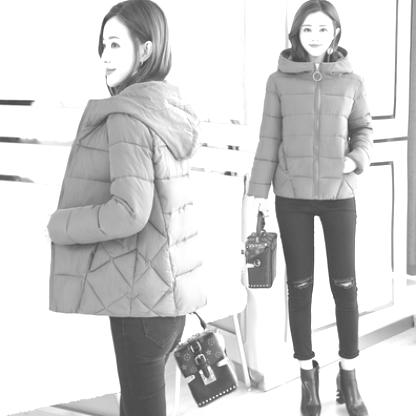dress: (36, 78, 225, 328), (257, 34, 388, 216), (264, 182, 363, 364)
